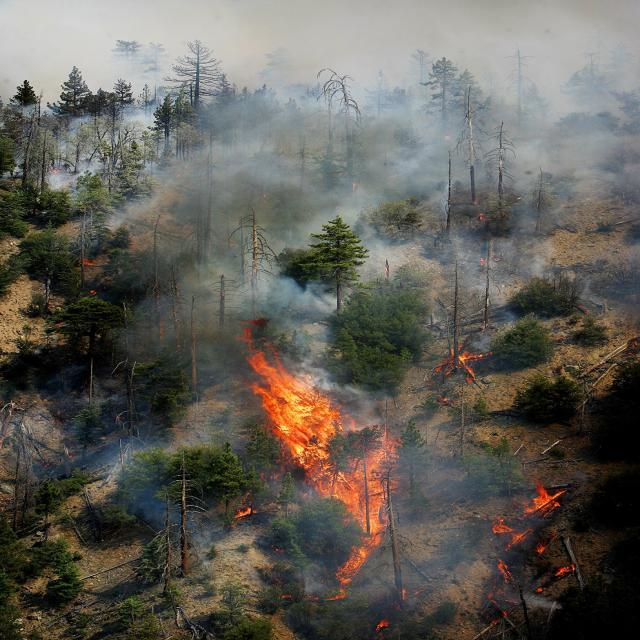Fire: (225, 311, 417, 607), (472, 464, 588, 600)
Smoke: (52, 0, 640, 259), (106, 262, 415, 433)
